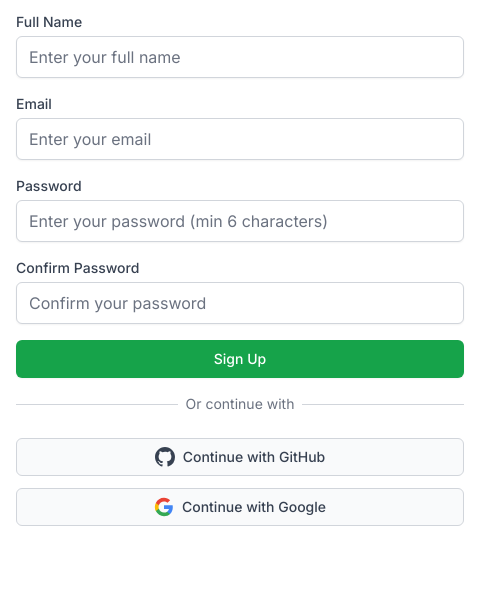
Scenario: RegisterForm › displays error message on registration failure
The image size is (481, 605).
Type "John Doe" into the field labelled "Full Name" at {"x": 240, "y": 57}, box top-left (16, 36), bottom-right (464, 78)
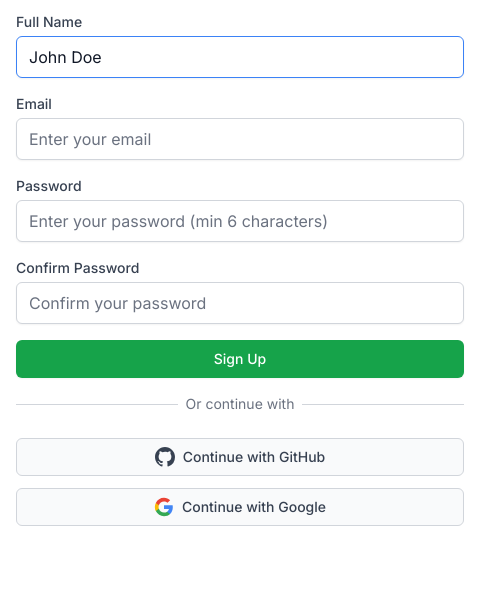
Type "existing@example.com" into the field labelled "Email" at {"x": 240, "y": 139}, box top-left (16, 118), bottom-right (464, 160)
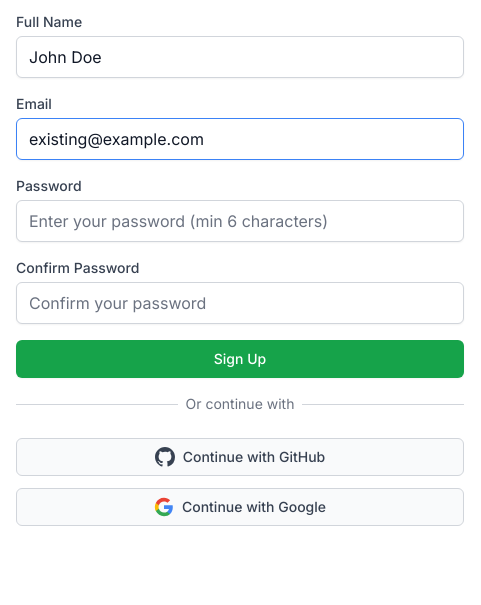
Type "password123" into the password field labelled "Password" at {"x": 240, "y": 221}, box top-left (16, 200), bottom-right (464, 242)
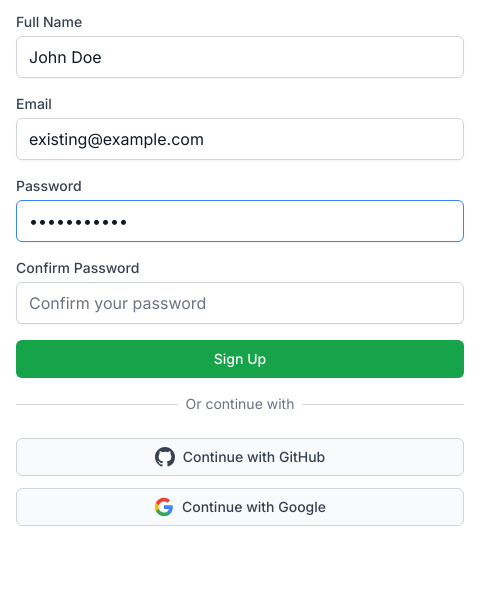
Type "password123" into the password field labelled "Confirm Password" at {"x": 240, "y": 303}, box top-left (16, 282), bottom-right (464, 324)
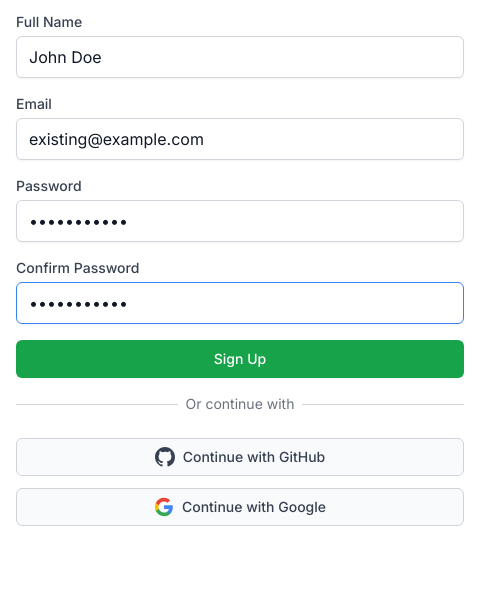
Click the button "Sign Up" at {"x": 240, "y": 359}, box top-left (16, 340), bottom-right (464, 378)
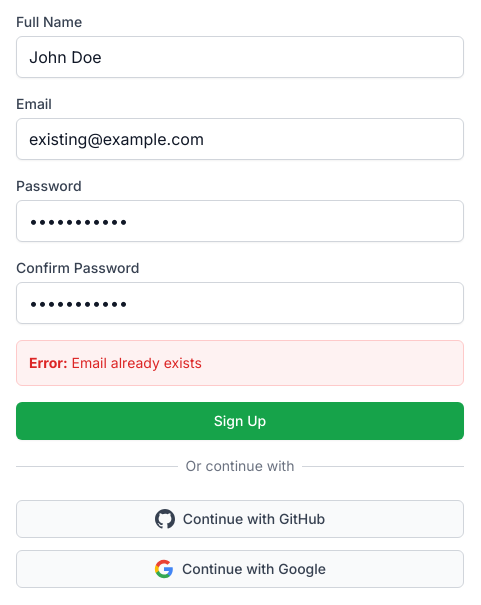
Now the text "Error: Email already exists" is shown, box top-left (16, 340), bottom-right (464, 386)
